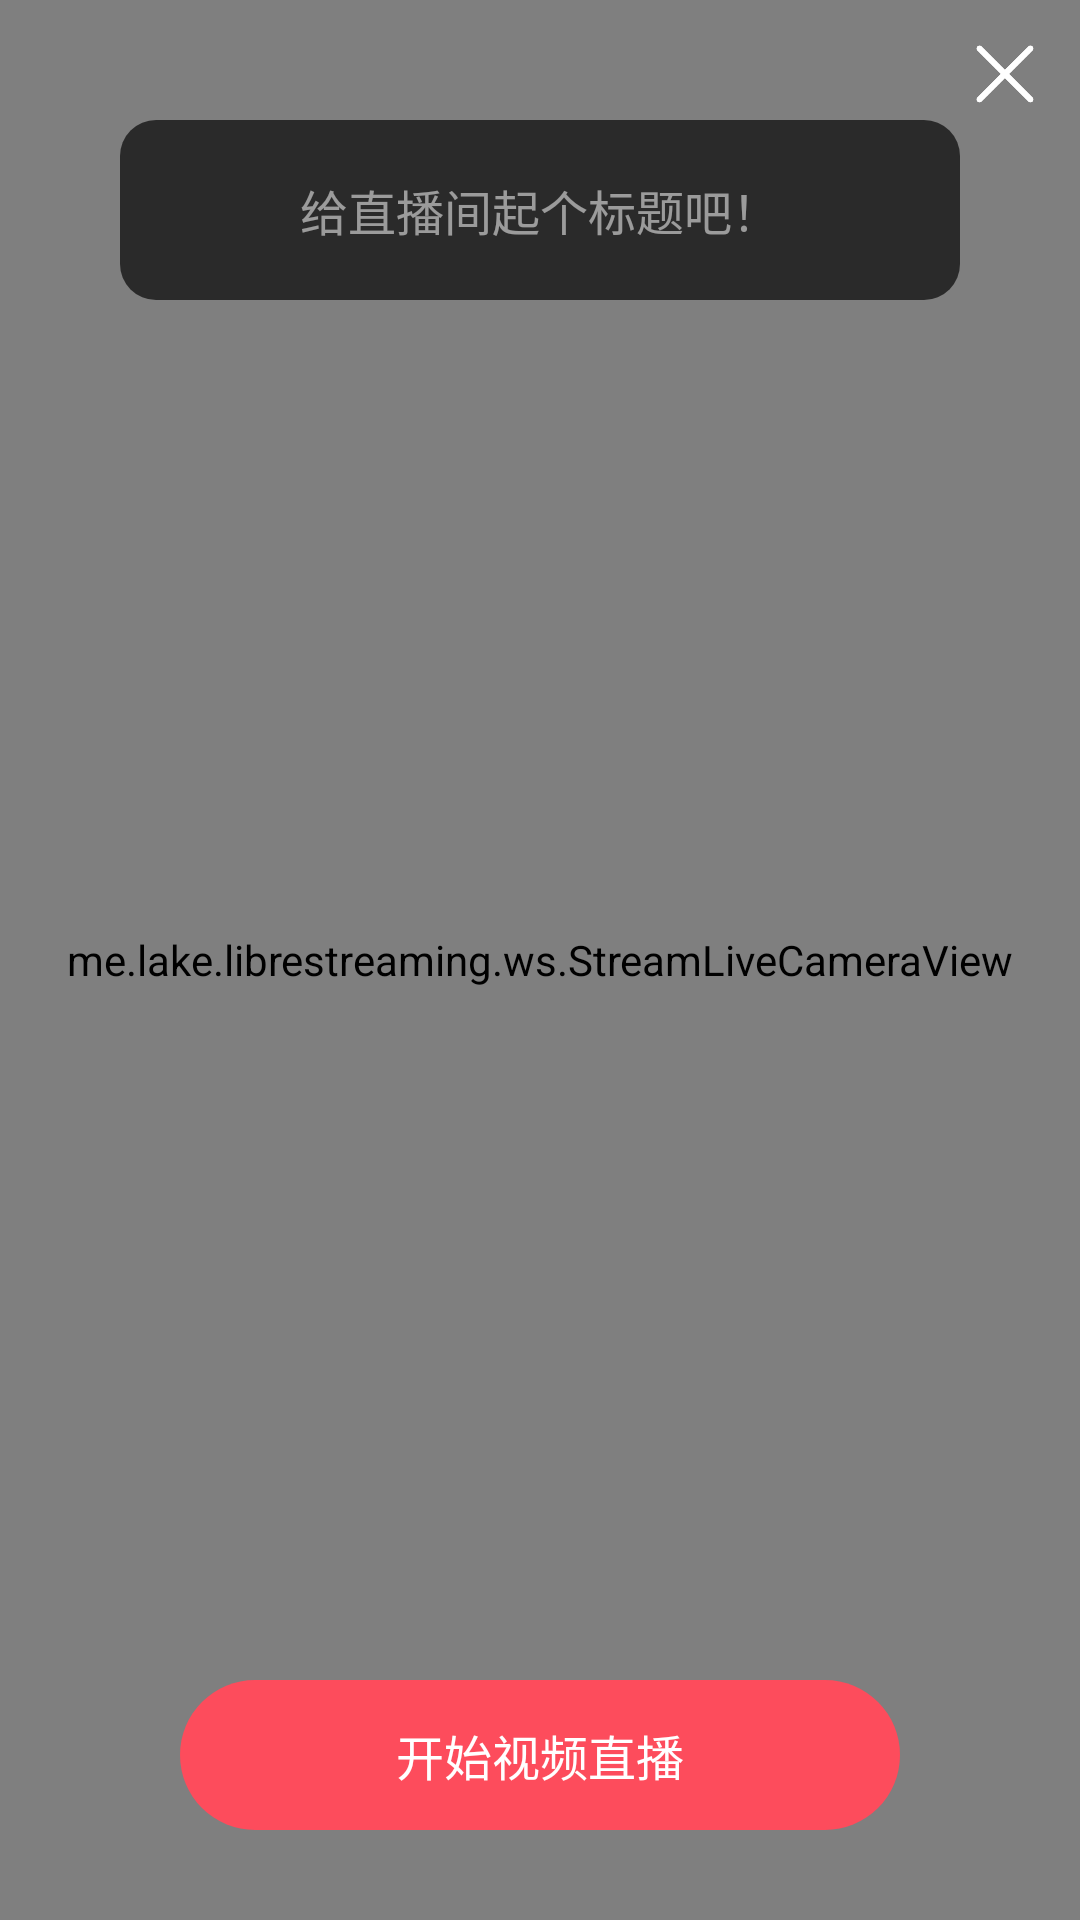

Where to tap for icons on this 1080 × 1920 app screen, as (x,y):
close: (1005,74)
